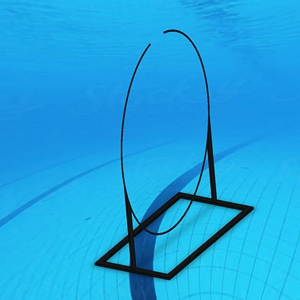circle: (92, 24, 256, 289)
